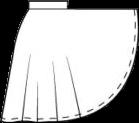Hemline: (0, 9, 138, 122)
Waistline: (29, 7, 68, 9), (28, 0, 67, 1)
